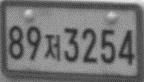2: (80, 28, 98, 63)
3: (63, 27, 79, 61)
4: (116, 29, 136, 66)
5: (100, 29, 116, 64)
8: (8, 24, 25, 60)
9: (25, 26, 42, 61)
저: (44, 33, 61, 62)
